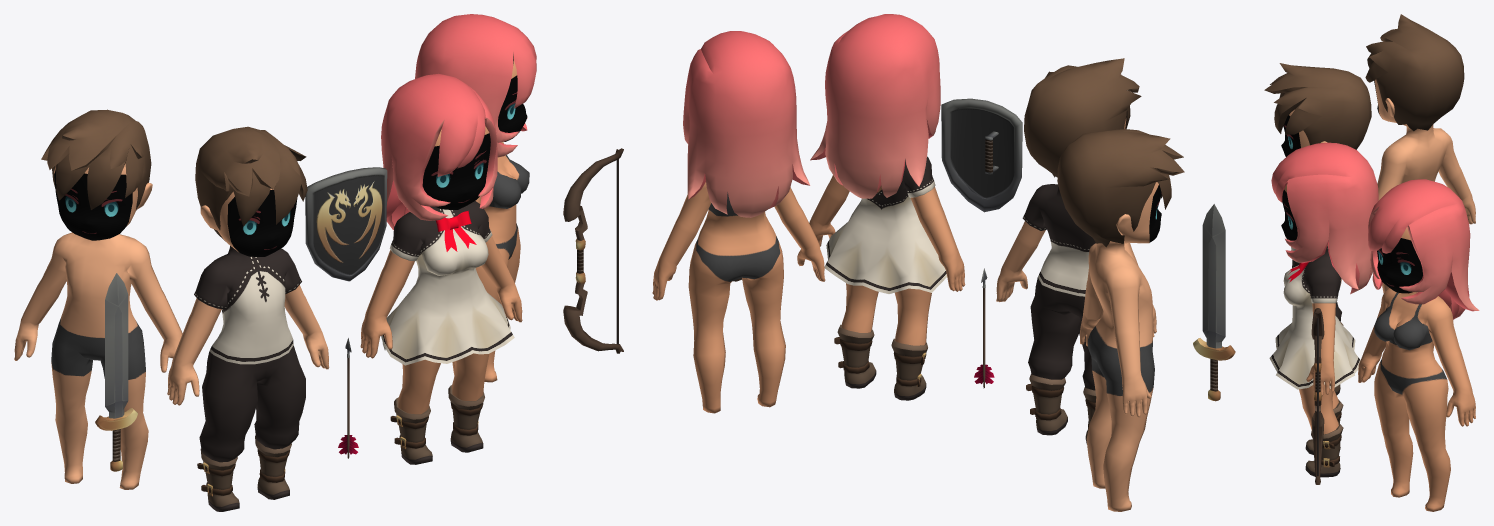
The model's file is Chibi-Sketchfab.fbx.
3 renders of one model, left to right at view 1: azimuth 30°, elevation 25°; view 2: azimuth 150°, elevation 25°; view 3: azimuth 270°, elevation 25°, orthographic. The views are drawn at different scales.
Parts seen in each view (by area): view 1: Girl.Body.Hero, Boy.Body.Hero, Boy.Body, Girl.Body, Weapon.Shield, Weapon.Sword, Weapon.Bow; view 2: Girl.Body.Hero, Girl.Body, Boy.Body, Boy.Body.Hero, Weapon.Shield, Weapon.Sword; view 3: Girl.Body, Girl.Body.Hero, Boy.Body, Boy.Body.Hero, Weapon.Bow.
Part boxes in pixels (<box>): Girl.Body.Hero: <box>360,73,522,464</box>; Boy.Body.Hero: <box>167,126,329,511</box>; Boy.Body: <box>14,109,182,489</box>; Girl.Body: <box>415,14,536,382</box>; Weapon.Shield: <box>305,167,387,281</box>; Weapon.Sword: <box>95,273,137,471</box>; Weapon.Bow: <box>563,148,623,353</box>; Girl.Body.Hero: <box>809,14,965,400</box>; Girl.Body: <box>652,31,825,413</box>; Boy.Body: <box>1057,129,1184,511</box>; Boy.Body.Hero: <box>996,58,1156,443</box>; Weapon.Shield: <box>941,98,1022,212</box>; Weapon.Sword: <box>1193,204,1235,401</box>; Girl.Body: <box>1358,179,1479,511</box>; Girl.Body.Hero: <box>1269,142,1378,477</box>; Boy.Body: <box>1365,14,1475,292</box>; Boy.Body.Hero: <box>1264,63,1371,395</box>; Weapon.Bow: <box>1311,308,1324,484</box>.
Size of the model in its own units: 2.74 by 1.83 by 1.14.
